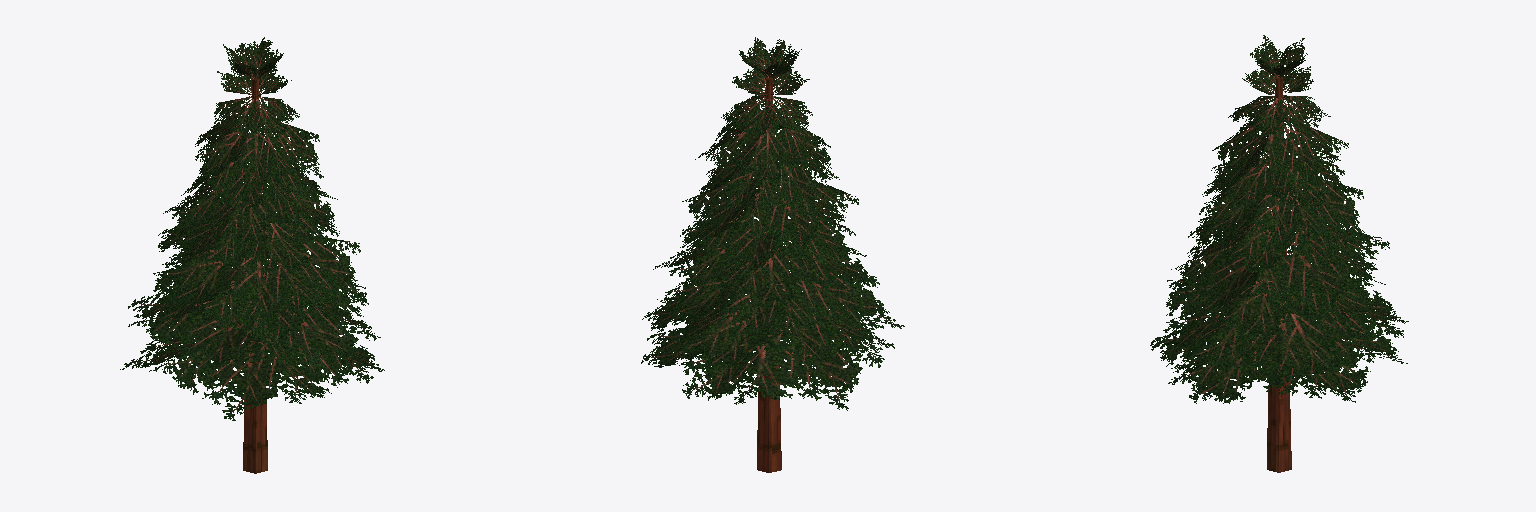
3 renders of one model, left to right at view 1: azimuth 30°, elevation 25°; view 2: azimuth 150°, elevation 25°; view 3: azimuth 270°, elevation 25°, orthographic.
Visible parts, largest first — view 1: NoName,2_NoName,1_Solid,9, NoName,2_NoName,1_Solid,8, NoName,2_NoName,1_Solid,2, NoName,2_NoName,1_Solid,10, NoName,2_NoName,1_Solid,7, NoName,2_NoName,1_Solid,3, NoName,2_NoName,1_Solid,1, NoName,2_NoName,1_Solid,6, NoName,2_NoName,1_Solid,5, NoName,2_Cylinder, NoName,2_NoName,1_Solid,11, NoName,2_NoName,1_Solid,12; view 2: NoName,2_NoName,1_Solid,2, NoName,2_NoName,1_Solid,8, NoName,2_NoName,1_Solid,1, NoName,2_NoName,1_Solid,9, NoName,2_NoName,1_Solid,10, NoName,2_NoName,1_Solid,7, NoName,2_NoName,1_Solid,3, NoName,2_NoName,1_Solid,6, NoName,2_NoName,1_Solid,5, NoName,2_Cylinder, NoName,2_NoName,1_Solid,11, NoName,2_NoName,1_Solid,12; view 3: NoName,2_NoName,1_Solid,8, NoName,2_NoName,1_Solid,9, NoName,2_NoName,1_Solid,2, NoName,2_NoName,1_Solid,10, NoName,2_NoName,1_Solid,1, NoName,2_NoName,1_Solid,7, NoName,2_NoName,1_Solid,3, NoName,2_NoName,1_Solid,6, NoName,2_NoName,1_Solid,5, NoName,2_Cylinder, NoName,2_NoName,1_Solid,11, NoName,2_NoName,1_Solid,12.
Boxes of the visible parts, <box> form: NoName,2_NoName,1_Solid,9: <box>158,218,364,324</box>; NoName,2_NoName,1_Solid,8: <box>128,284,380,378</box>; NoName,2_NoName,1_Solid,2: <box>120,301,384,420</box>; NoName,2_NoName,1_Solid,10: <box>163,168,337,249</box>; NoName,2_NoName,1_Solid,7: <box>195,118,323,189</box>; NoName,2_NoName,1_Solid,3: <box>171,202,339,275</box>; NoName,2_NoName,1_Solid,1: <box>152,249,366,348</box>; NoName,2_NoName,1_Solid,6: <box>181,148,322,219</box>; NoName,2_NoName,1_Solid,5: <box>210,96,299,138</box>; NoName,2_Cylinder: <box>243,78,267,473</box>; NoName,2_NoName,1_Solid,11: <box>223,37,283,78</box>; NoName,2_NoName,1_Solid,12: <box>217,67,291,96</box>; NoName,2_NoName,1_Solid,2: <box>641,302,894,410</box>; NoName,2_NoName,1_Solid,8: <box>642,276,904,372</box>; NoName,2_NoName,1_Solid,1: <box>665,250,876,340</box>; NoName,2_NoName,1_Solid,9: <box>653,221,873,308</box>; NoName,2_NoName,1_Solid,10: <box>682,170,858,255</box>; NoName,2_NoName,1_Solid,7: <box>695,115,831,185</box>; NoName,2_NoName,1_Solid,3: <box>680,195,855,283</box>; NoName,2_NoName,1_Solid,6: <box>701,149,839,217</box>; NoName,2_NoName,1_Solid,5: <box>721,96,812,142</box>; NoName,2_Cylinder: <box>757,77,781,472</box>; NoName,2_NoName,1_Solid,11: <box>739,37,801,77</box>; NoName,2_NoName,1_Solid,12: <box>732,67,809,96</box>; NoName,2_NoName,1_Solid,8: <box>1150,278,1408,383</box>; NoName,2_NoName,1_Solid,9: <box>1171,220,1389,318</box>; NoName,2_NoName,1_Solid,2: <box>1151,316,1407,403</box>; NoName,2_NoName,1_Solid,10: <box>1199,175,1364,250</box>; NoName,2_NoName,1_Solid,1: <box>1169,241,1385,342</box>; NoName,2_NoName,1_Solid,7: <box>1212,118,1348,190</box>; NoName,2_NoName,1_Solid,3: <box>1188,195,1370,275</box>; NoName,2_NoName,1_Solid,6: <box>1211,148,1344,213</box>; NoName,2_NoName,1_Solid,5: <box>1228,95,1330,136</box>; NoName,2_Cylinder: <box>1267,77,1291,472</box>; NoName,2_NoName,1_Solid,11: <box>1250,35,1307,78</box>; NoName,2_NoName,1_Solid,12: <box>1242,65,1313,94</box>.
Size of the model in its own units: 4.79 by 8.04 by 4.83.
Materials: 12 (2 with a texture image).